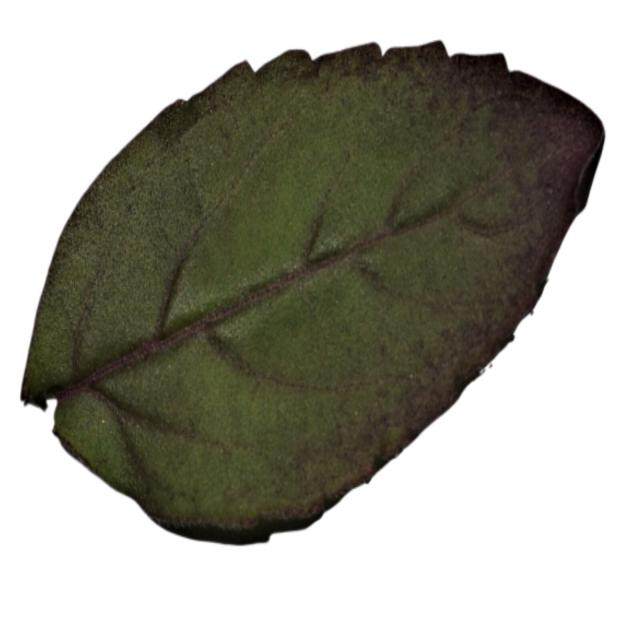tulsi: (19, 34, 610, 552)
